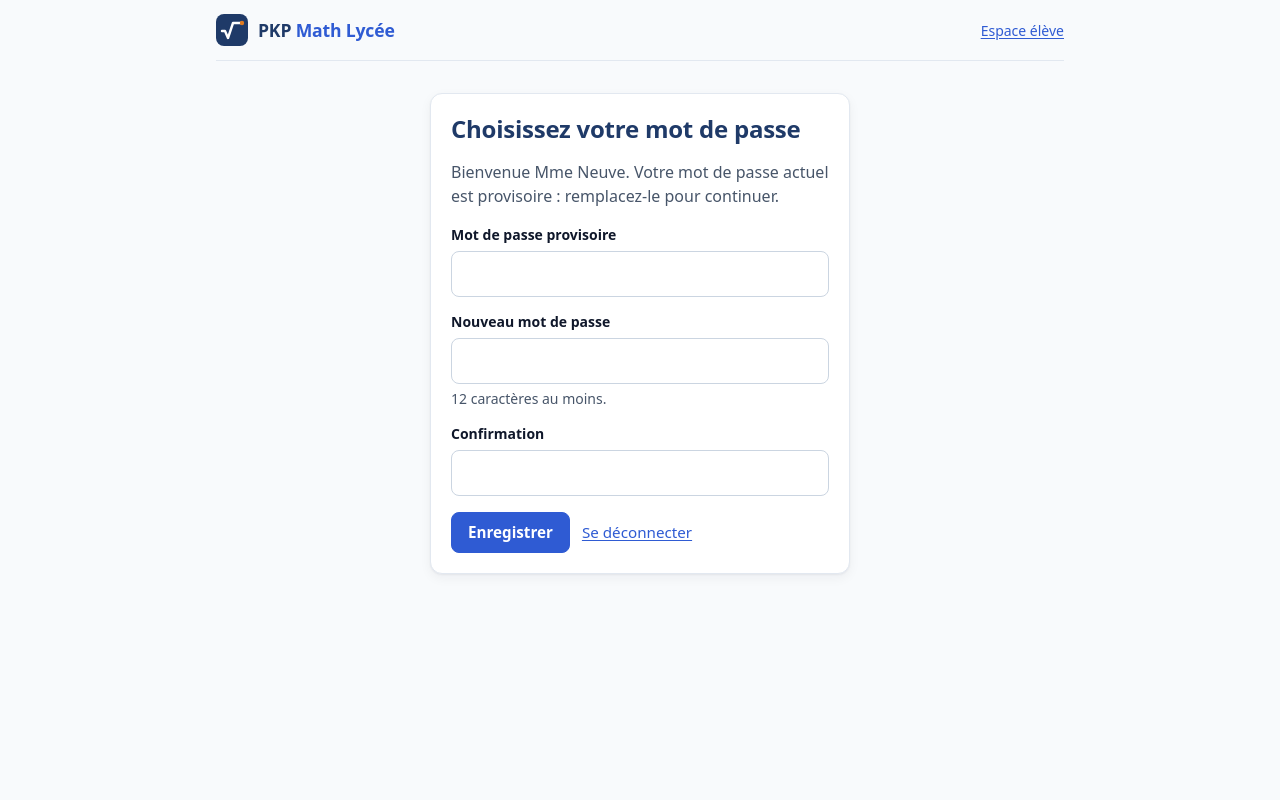
Test: professeur › doit remplacer un mot de passe provisoire avant tout le reste
The width and height of the screenshot is (1280, 800).
Expected: the heading "Choisissez votre mot de passe" is shown, [451,114,829,144]
Step 1. Type "Abc23defGhk45mnP" into the password field labelled "Mot de passe provisoire" → point(640, 274), box [451,251,829,297]
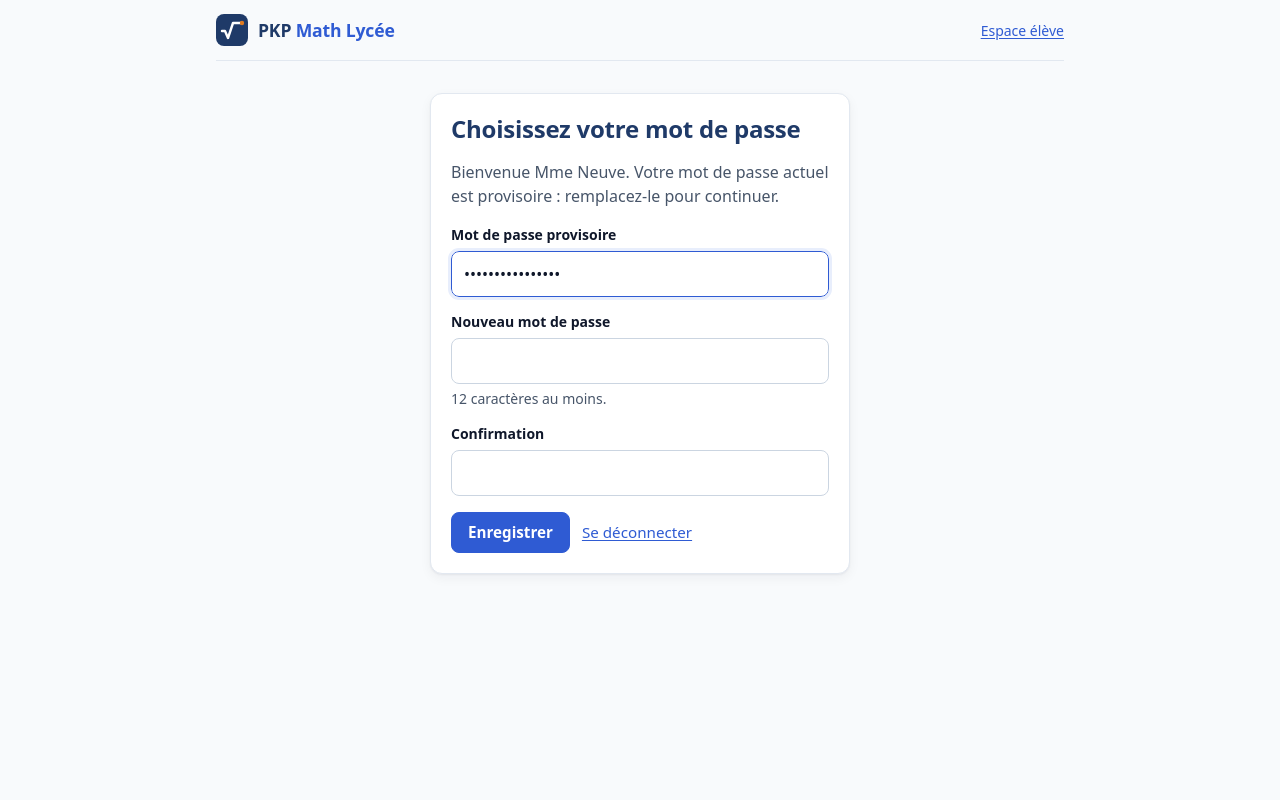
Step 2. Type "mon-mot-de-passe-solide" into the password field labelled "Nouveau mot de passe" → point(640, 361), box [451,338,829,384]
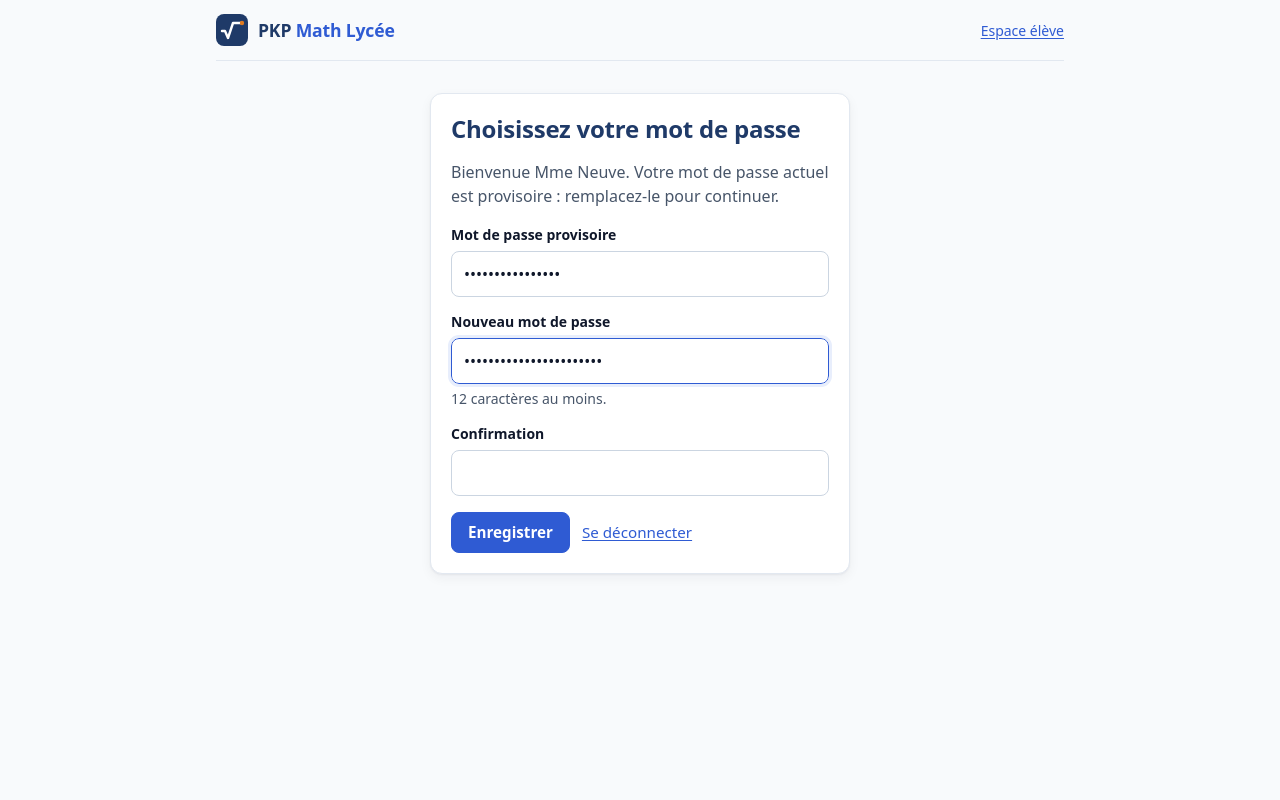
Step 3. Type "mon-mot-de-passe-solide" into the password field labelled "Confirmation" → point(640, 473), box [451,450,829,496]
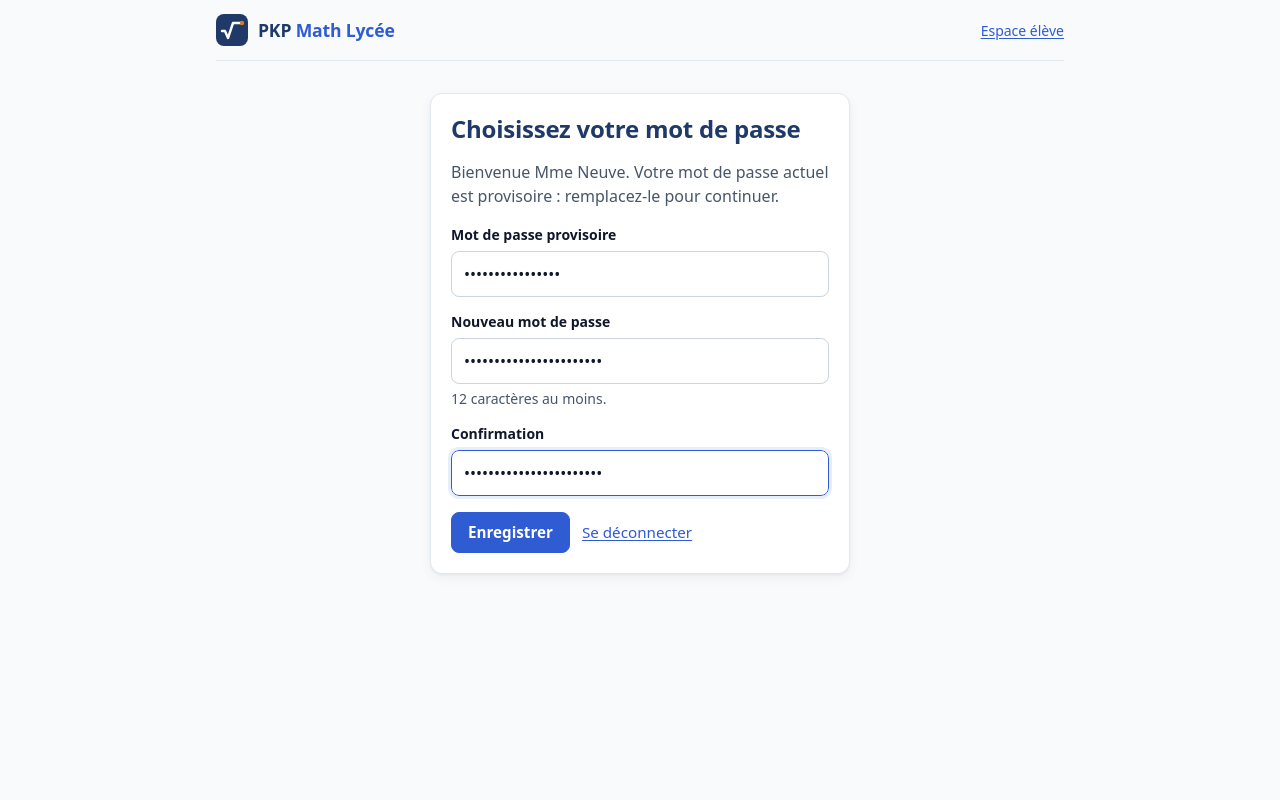
Step 4. Click the button "Enregistrer" → point(510, 533), box [451,512,570,553]
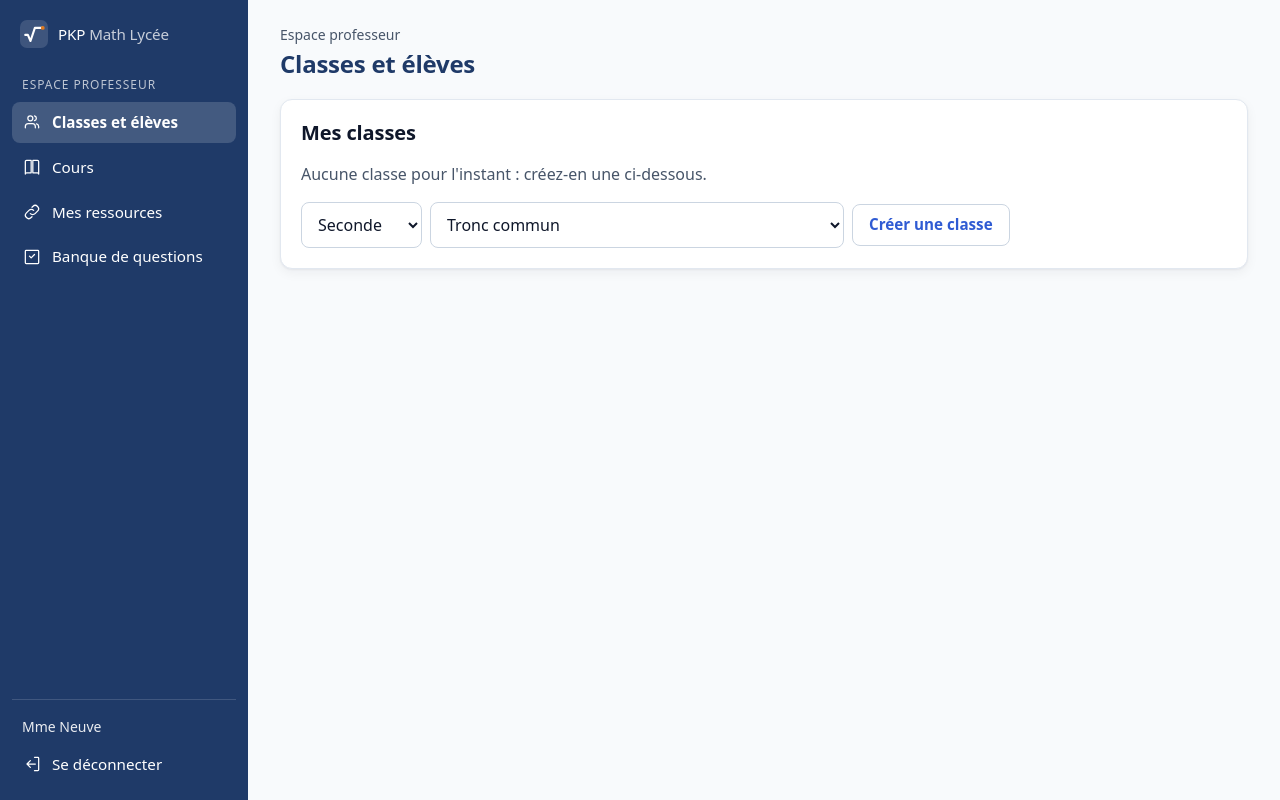
Result: the heading "Classes et élèves" is shown at [280,49,475,79]
